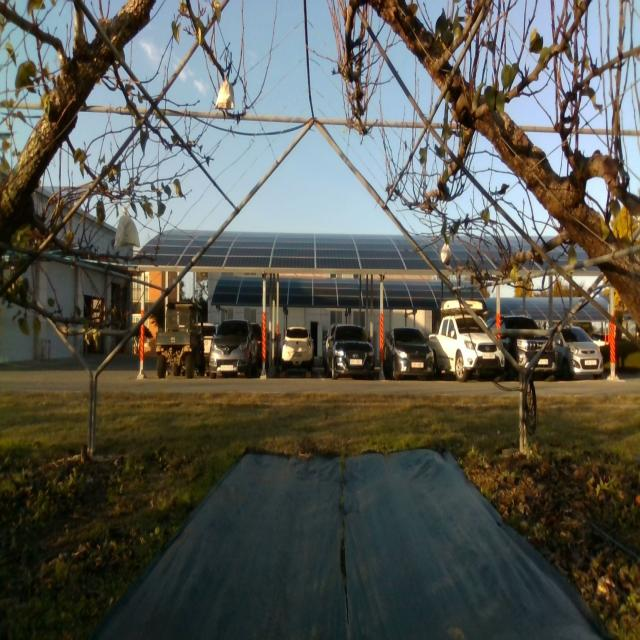pearbags: (114, 215, 140, 248), (215, 79, 234, 109), (441, 244, 451, 264)
